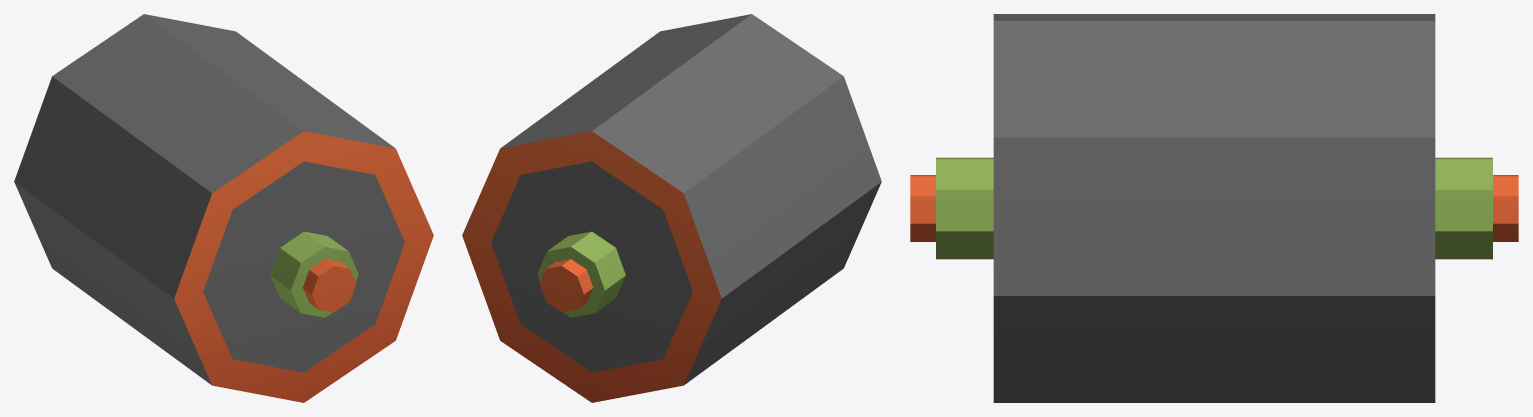
Rendered from paper mill mechanism.fbx.
3 views of the same model, side by side, from view 1: azimuth 30°, elevation 25°; view 2: azimuth 150°, elevation 25°; view 3: azimuth 270°, elevation 25° (orthographic). The views are drawn at different scales.
Parts seen in each view (by area): view 1: paper_mill_mechanism; view 2: paper_mill_mechanism; view 3: paper_mill_mechanism.
Part boxes in pixels (left/top/right/bottom): paper_mill_mechanism: left=14, top=14, right=433, bottom=402; paper_mill_mechanism: left=462, top=14, right=881, bottom=402; paper_mill_mechanism: left=910, top=14, right=1518, bottom=402.
Size of the model in its own units: 221 by 221 by 325.
Materials: 1 (1 with a texture image).
